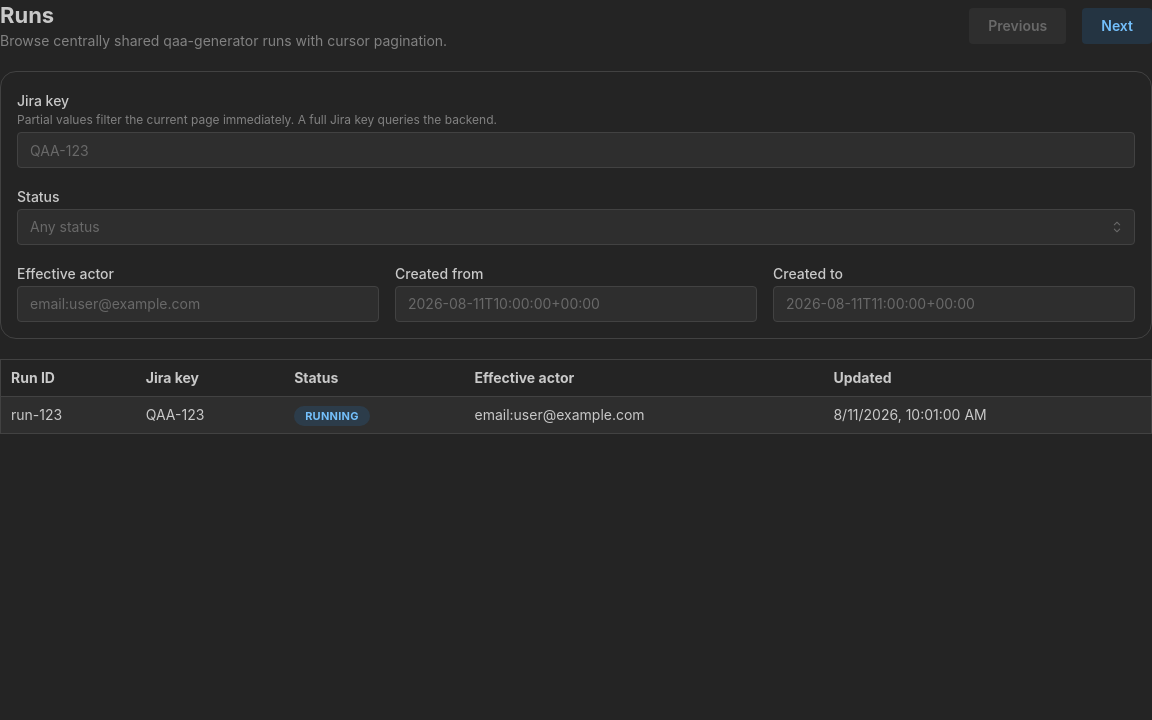
RunsPanel › loads artifacts for terminal runs
Click the text "run-123".
click(37, 414)  # box [0, 396, 136, 433]
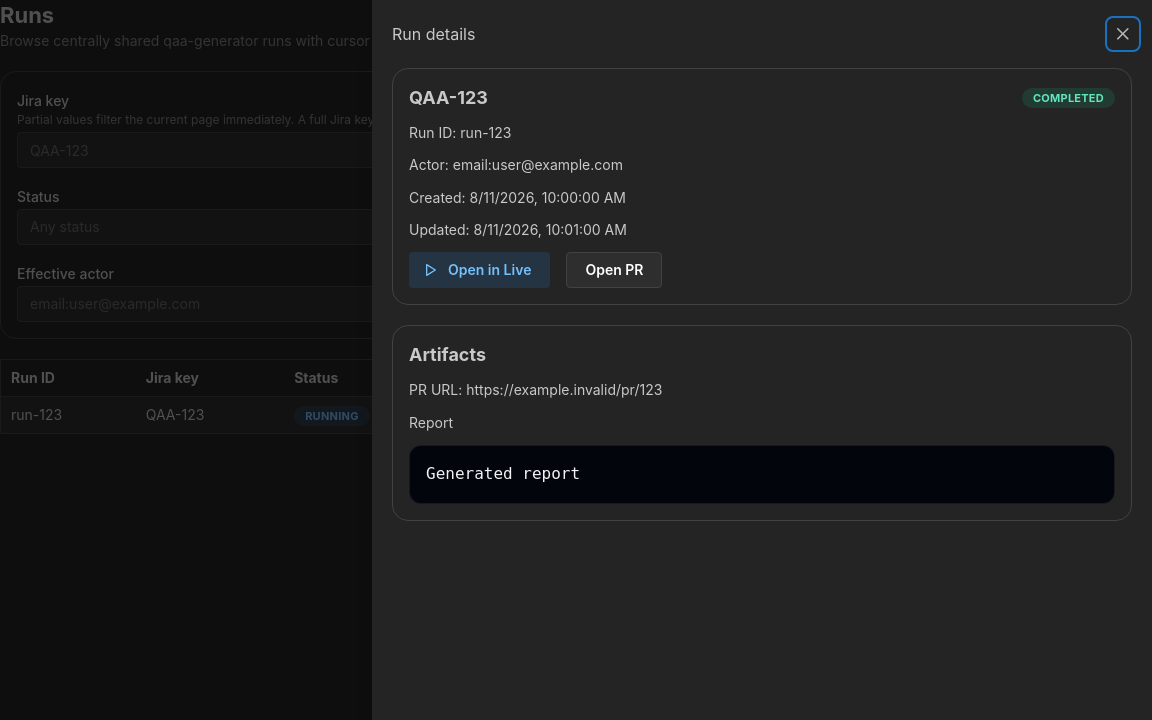
Result: the text "Generated report" is shown at [409, 445, 1115, 504]
